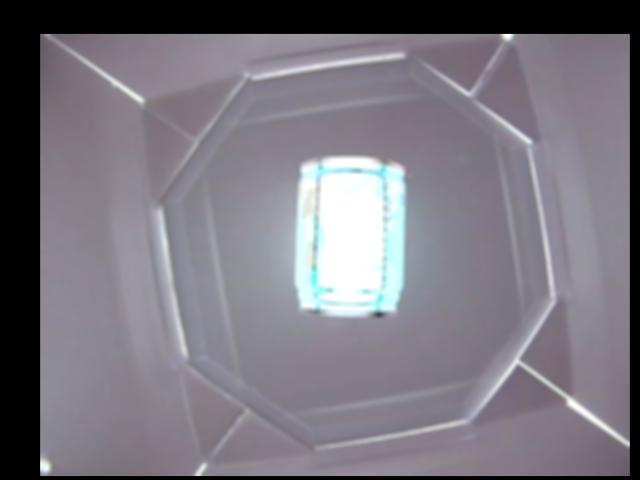Bottle: (295, 158, 403, 318)
